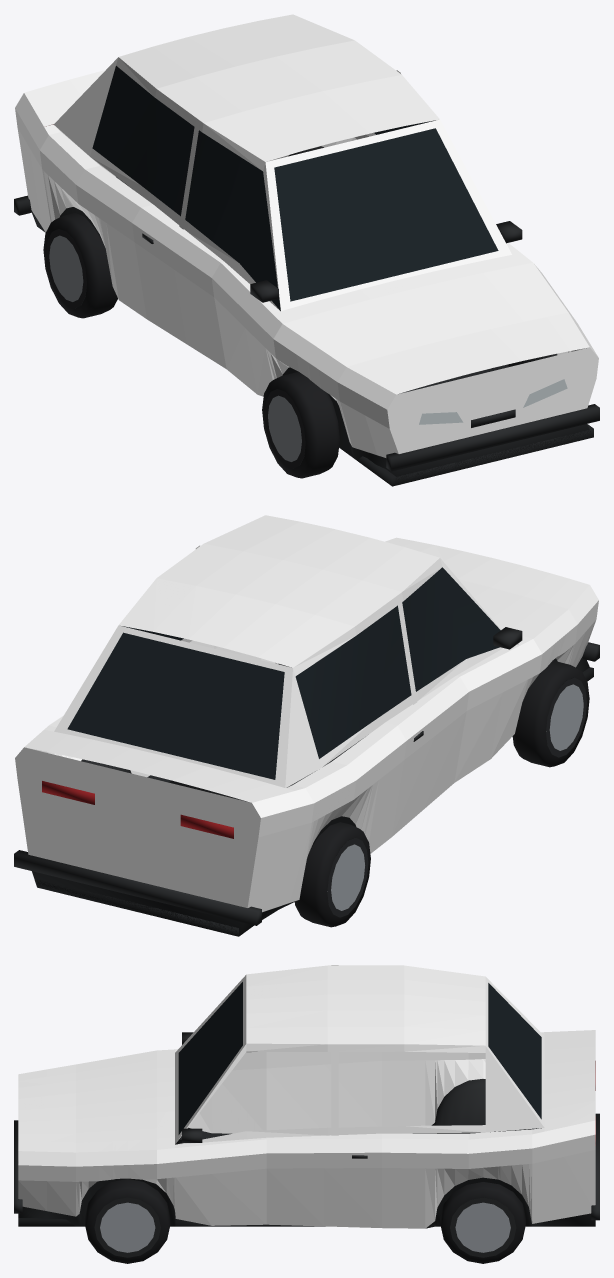
Rendered from lindauer_aro.glb.
The picture shows the model from 3 angles, top to bottom: view 1: azimuth 30°, elevation 25°; view 2: azimuth 150°, elevation 25°; view 3: azimuth 270°, elevation 25°; orthographic projection. The views are drawn at different scales.
Visible parts, largest first — view 1: Body_Paint, Body_Details, Mount_FrontLeft_Wheel_Details, Mount_RearLeft_Wheel_Details; view 2: Body_Paint, Body_Details, Mount_FrontLeft_Wheel_Details, Mount_RearLeft_Wheel_Details; view 3: Body_Paint, Body_Details, Mount_FrontRight_Wheel_Details, Mount_RearRight_Wheel_Details.
Part boxes in pixels (box(x1,y1,x2,y2)): Body_Paint: box(15, 14, 598, 457); Body_Details: box(14, 66, 599, 486); Mount_FrontLeft_Wheel_Details: box(262, 372, 339, 478); Mount_RearLeft_Wheel_Details: box(43, 213, 117, 318); Body_Paint: box(15, 515, 598, 912); Body_Details: box(14, 567, 599, 936); Mount_FrontLeft_Wheel_Details: box(512, 660, 589, 767); Mount_RearLeft_Wheel_Details: box(294, 822, 370, 927); Body_Paint: box(18, 965, 595, 1228); Body_Details: box(14, 982, 599, 1228); Mount_FrontRight_Wheel_Details: box(85, 1179, 170, 1263); Mount_RearRight_Wheel_Details: box(440, 1182, 525, 1263).
Bounding box in the file's own units: 1.7 × 1.48 × 3.78.
Materials: 2 (1 with a texture image).
